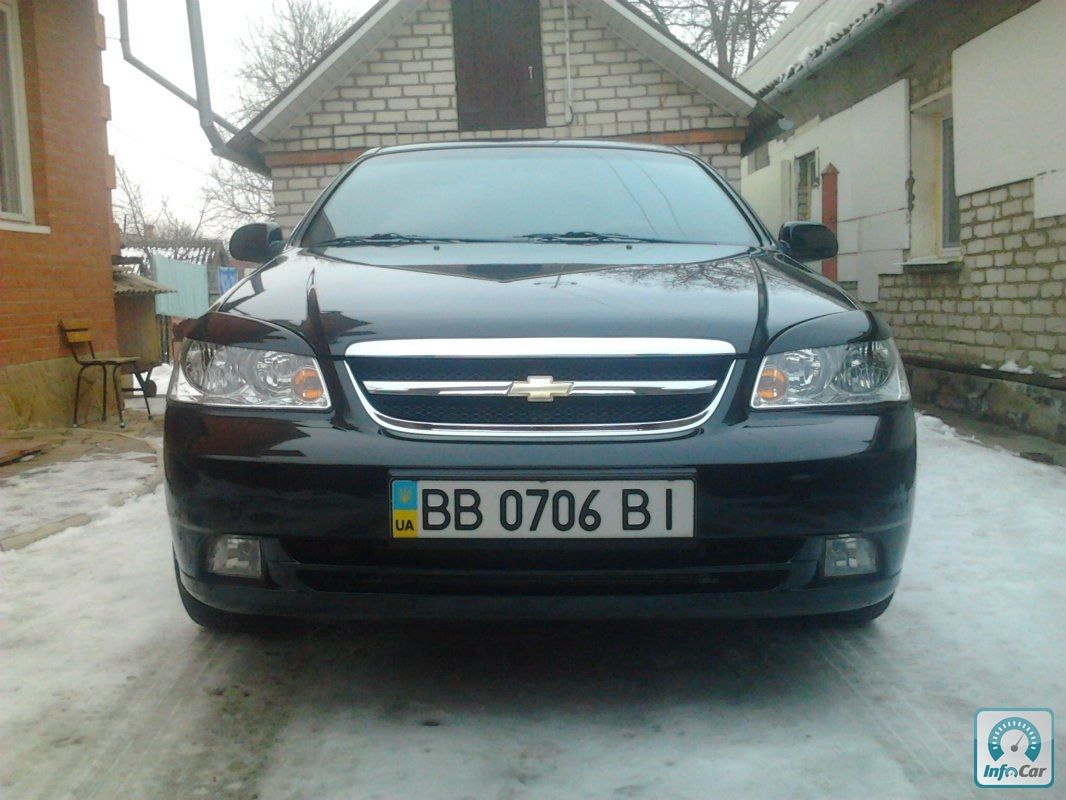car: (162, 134, 920, 639)
plate: (391, 471, 700, 545)
